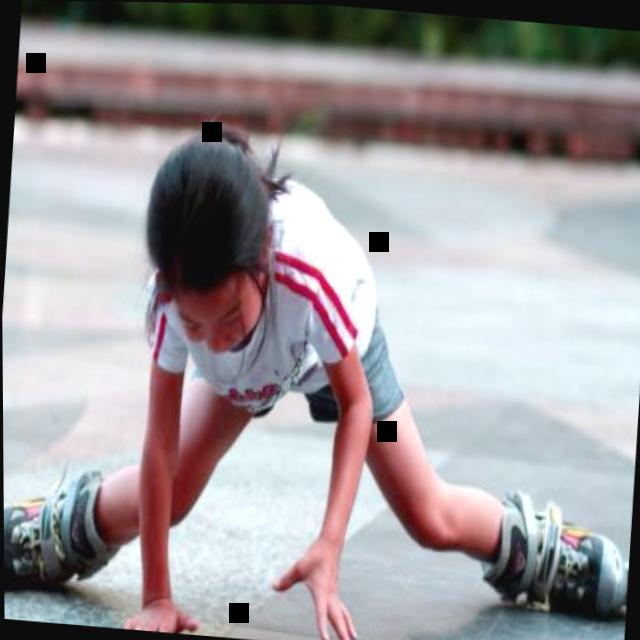Fall-Detected: (0, 68, 640, 640)
